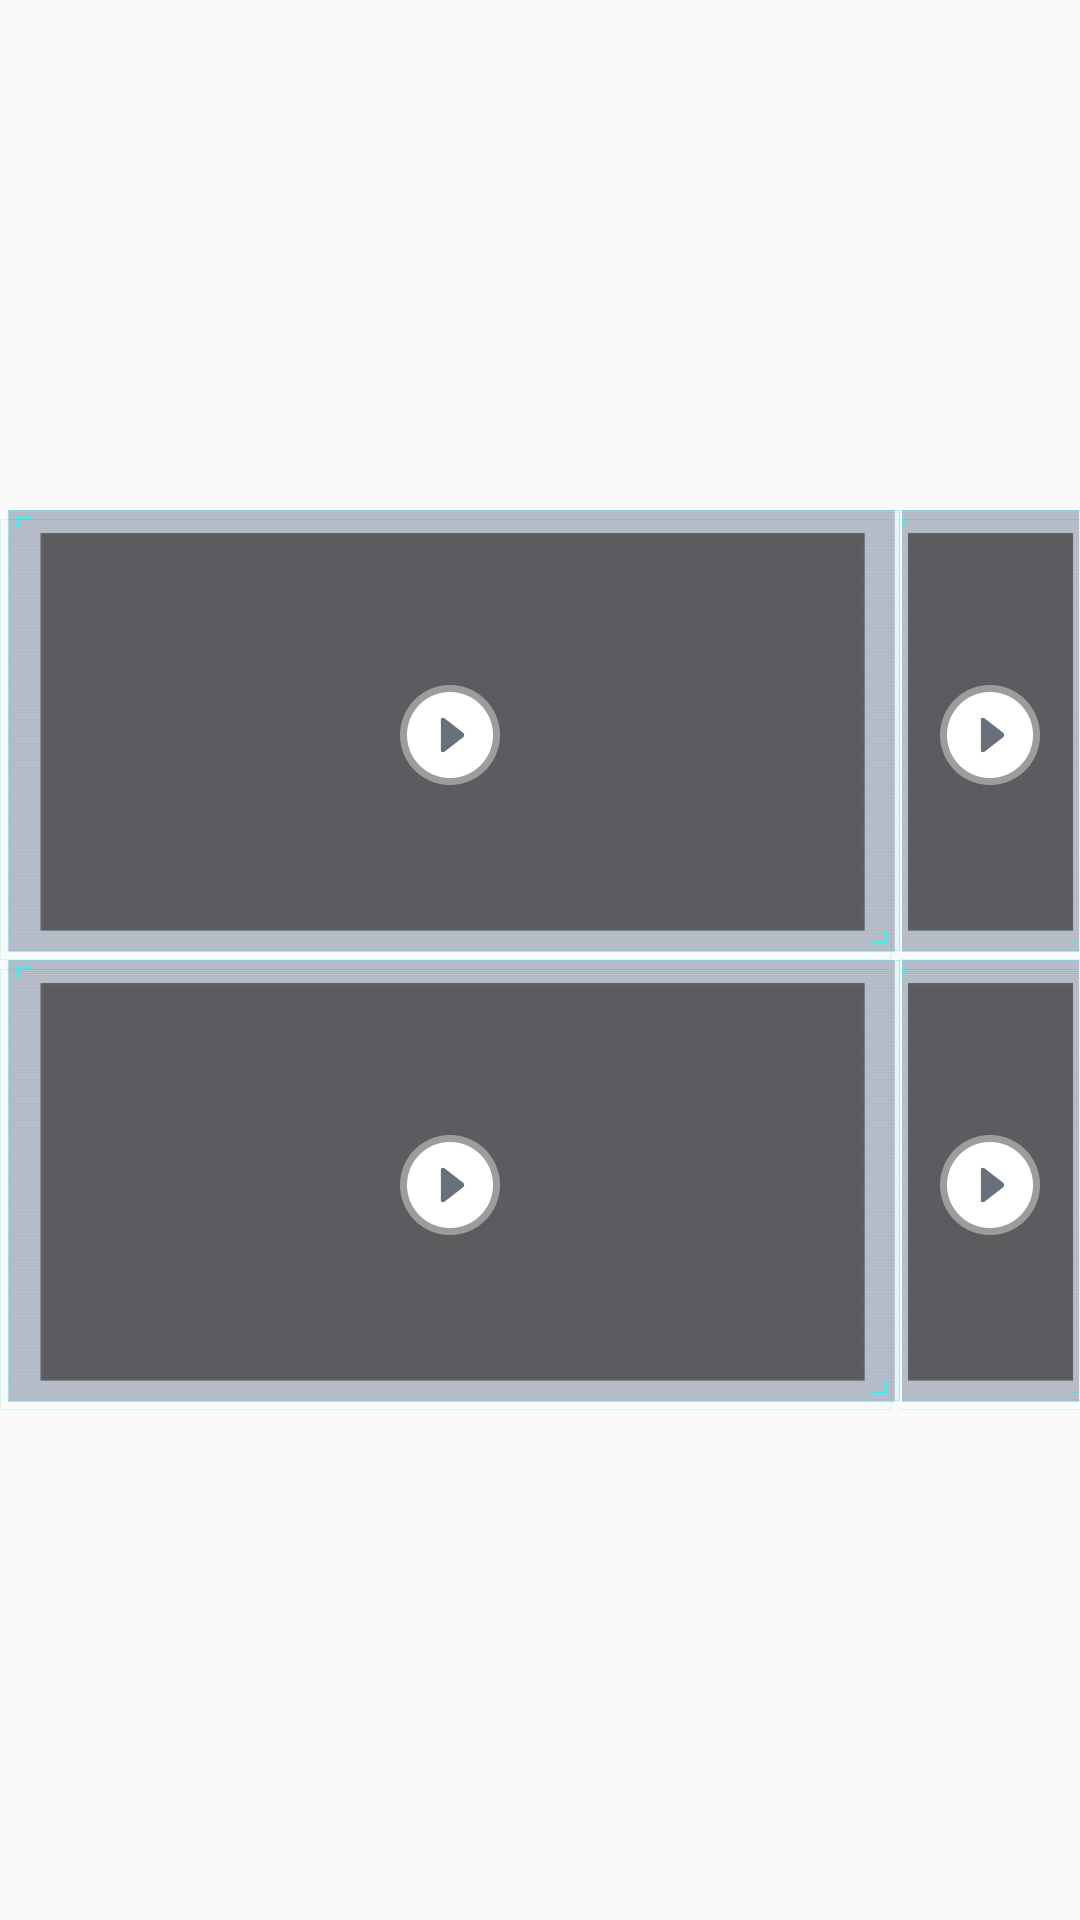

Screen size 1080 x 1920. Icon name, then its center in pixels as (x=x, y=y):
video play: (x=450, y=735), (x=990, y=735), (x=450, y=1185), (x=990, y=1185)
